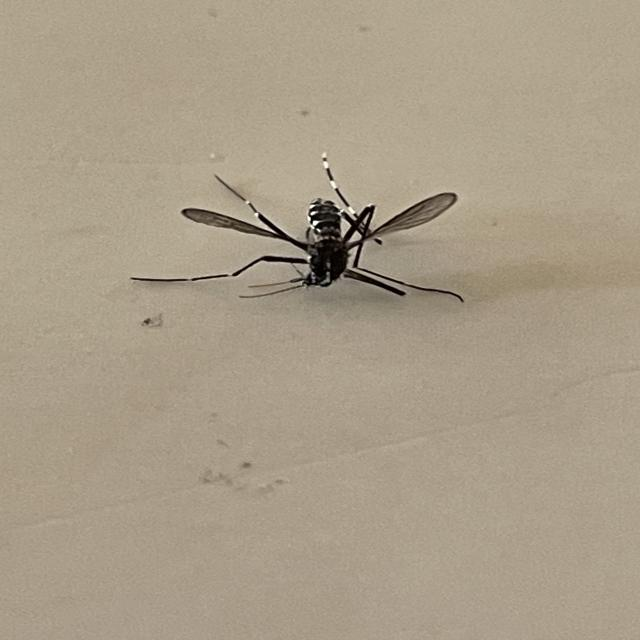albopictus: (144, 140, 474, 318)
